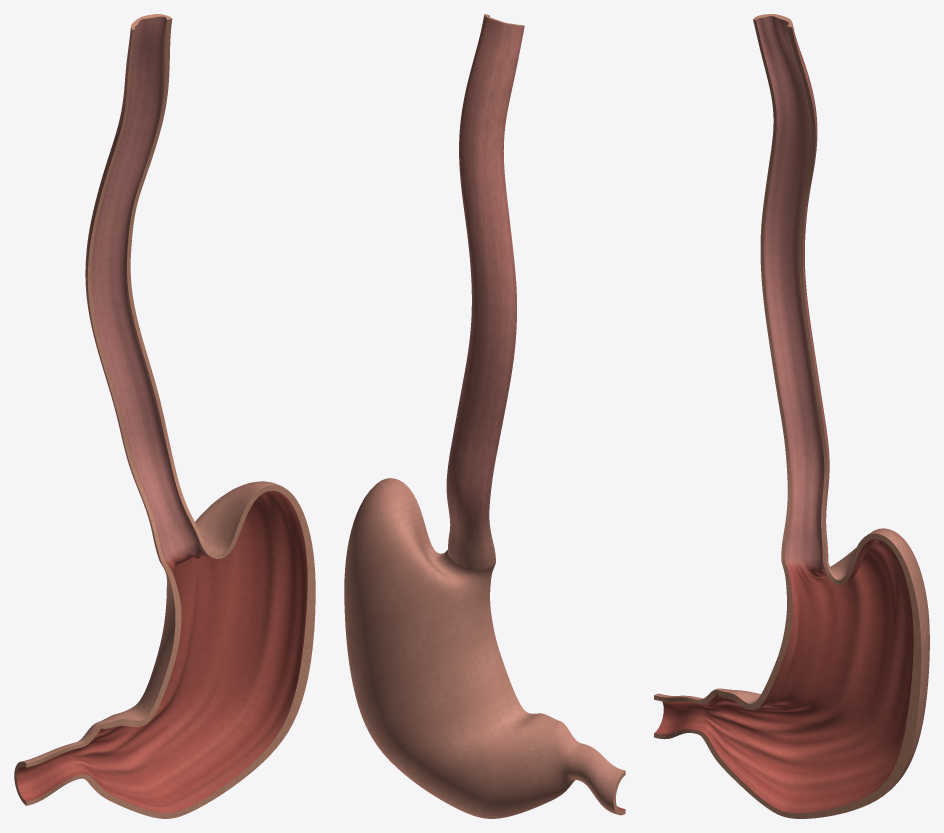
Rendered from previous-section.glb.
3 views of the same model, side by side, from view 1: azimuth 30°, elevation 25°; view 2: azimuth 150°, elevation 25°; view 3: azimuth 330°, elevation 25° (orthographic). The views are drawn at different scales.
Visible parts, largest first — view 1: Opened_Esophagus_and_Stomach; view 2: Opened_Esophagus_and_Stomach; view 3: Opened_Esophagus_and_Stomach.
Part boxes in pixels (bbox=[...]): Opened_Esophagus_and_Stomach: bbox=[14, 14, 315, 818]; Opened_Esophagus_and_Stomach: bbox=[344, 14, 625, 818]; Opened_Esophagus_and_Stomach: bbox=[654, 14, 929, 818].
Size of the model in its own units: 0.1347 by 0.3672 by 0.0358.
11 materials, 11 textured.
